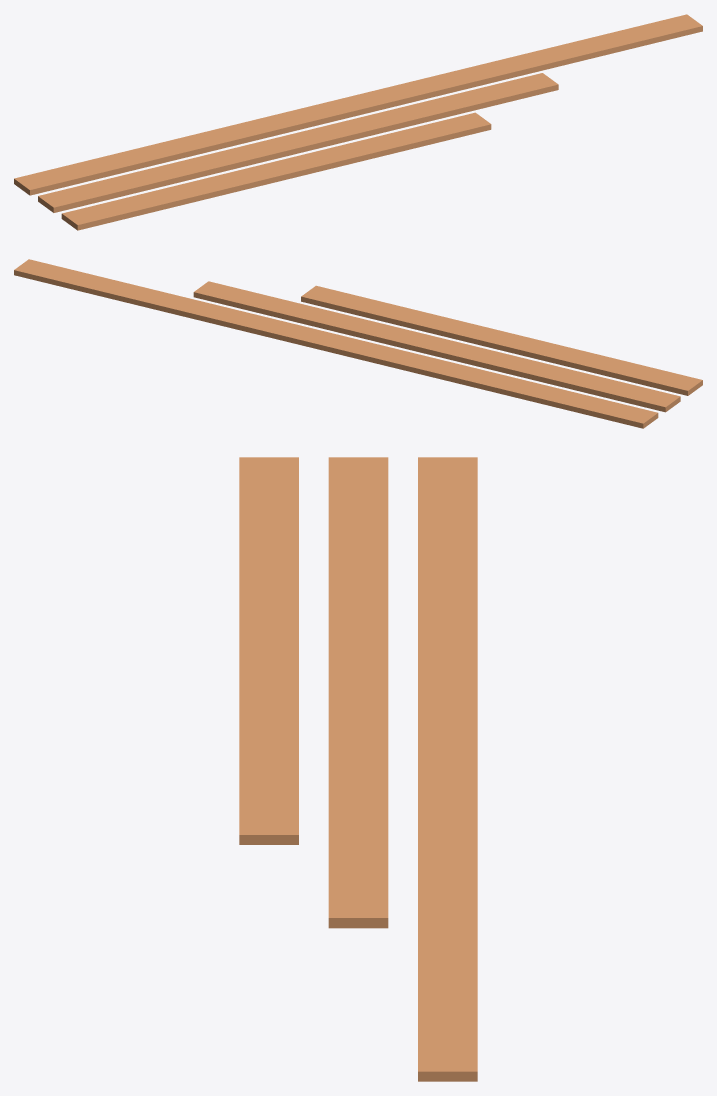
The model's file is deck-board-200x38_itauba-oro_v0.1.glb.
The picture shows the model from 3 angles, top to bottom: view 1: azimuth 30°, elevation 25°; view 2: azimuth 150°, elevation 25°; view 3: azimuth 270°, elevation 25°; orthographic projection. The views are drawn at different scales.
Parts seen in each view (by area): view 1: deck-board-200x38_deck-board-200x38_itauba-oro_4880mm, deck-board-200x38_deck-board-200x38_itauba-oro_3660mm, deck-board-200x38_deck-board-200x38_itauba-oro_3000mm; view 2: deck-board-200x38_deck-board-200x38_itauba-oro_4880mm, deck-board-200x38_deck-board-200x38_itauba-oro_3660mm, deck-board-200x38_deck-board-200x38_itauba-oro_3000mm; view 3: deck-board-200x38_deck-board-200x38_itauba-oro_4880mm, deck-board-200x38_deck-board-200x38_itauba-oro_3660mm, deck-board-200x38_deck-board-200x38_itauba-oro_3000mm.
Boxes of the visible parts, bbox=[...] form: deck-board-200x38_deck-board-200x38_itauba-oro_4880mm: bbox=[14, 14, 702, 195]; deck-board-200x38_deck-board-200x38_itauba-oro_3660mm: bbox=[38, 73, 558, 212]; deck-board-200x38_deck-board-200x38_itauba-oro_3000mm: bbox=[61, 112, 491, 230]; deck-board-200x38_deck-board-200x38_itauba-oro_4880mm: bbox=[14, 259, 658, 428]; deck-board-200x38_deck-board-200x38_itauba-oro_3660mm: bbox=[193, 281, 680, 412]; deck-board-200x38_deck-board-200x38_itauba-oro_3000mm: bbox=[301, 285, 702, 395]; deck-board-200x38_deck-board-200x38_itauba-oro_4880mm: bbox=[418, 457, 477, 1081]; deck-board-200x38_deck-board-200x38_itauba-oro_3660mm: bbox=[328, 457, 388, 928]; deck-board-200x38_deck-board-200x38_itauba-oro_3000mm: bbox=[239, 457, 298, 844].
Size of the model in its own units: 4.88 by 0.038 by 0.8.
